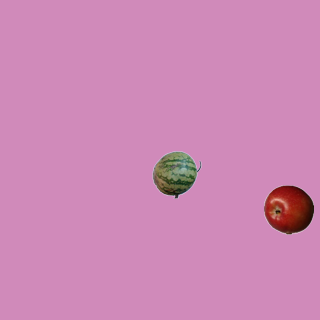Apple Braeburn: (263, 184, 313, 234)
Watermelon: (151, 149, 201, 199)
